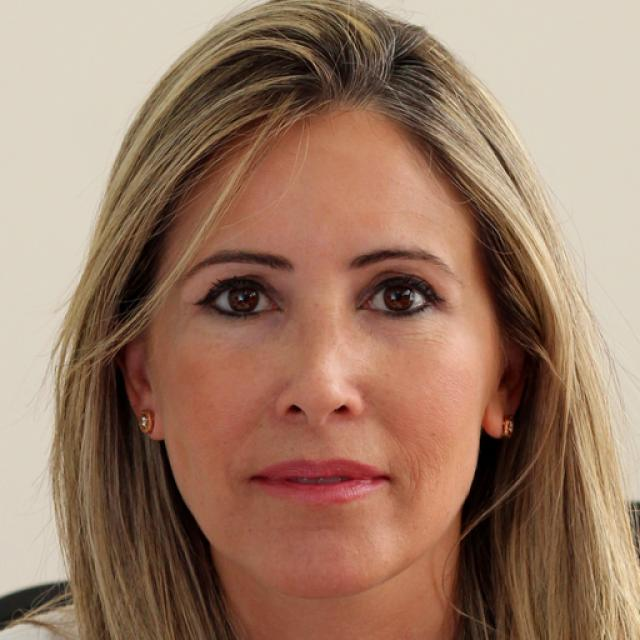neutral: (157, 104, 495, 598)
